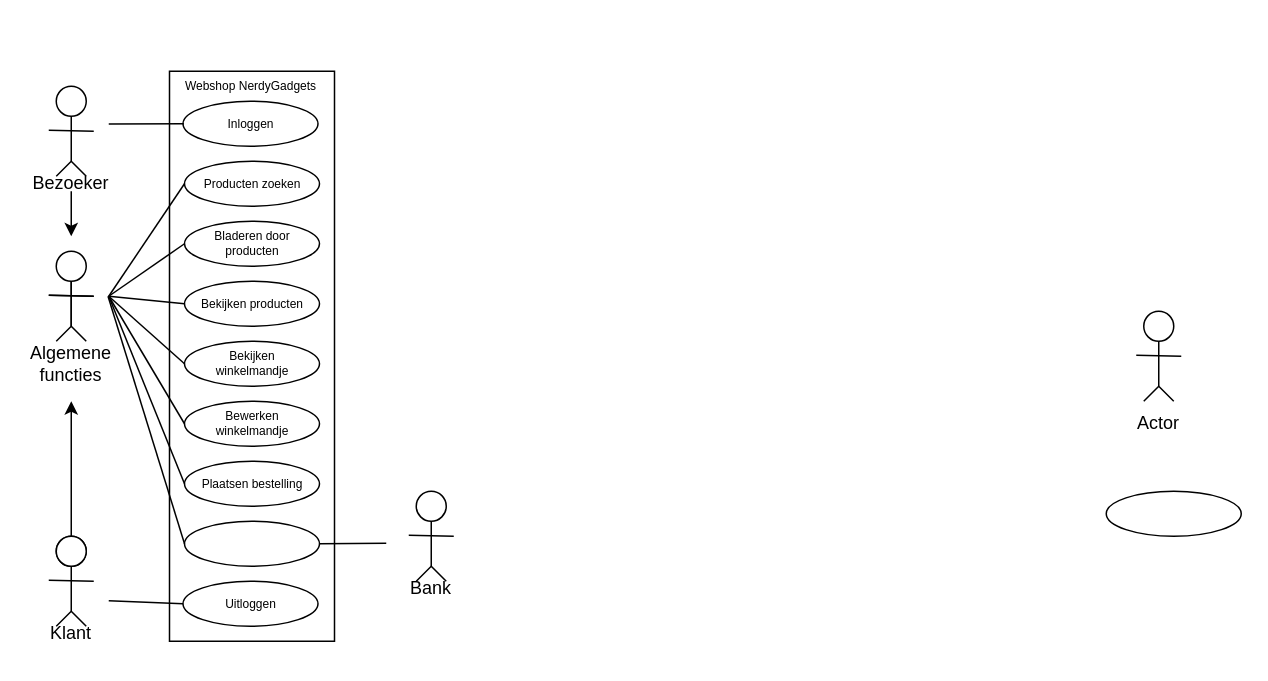
Some shapes in this 1268 by 681 pixel diagram are drawn without their labels. The box of each missing label's shape, as (x1, y1, x2, y2) in pixels:
Betalen: (183, 520, 320, 566)
Ippsum: (1105, 490, 1241, 536)
